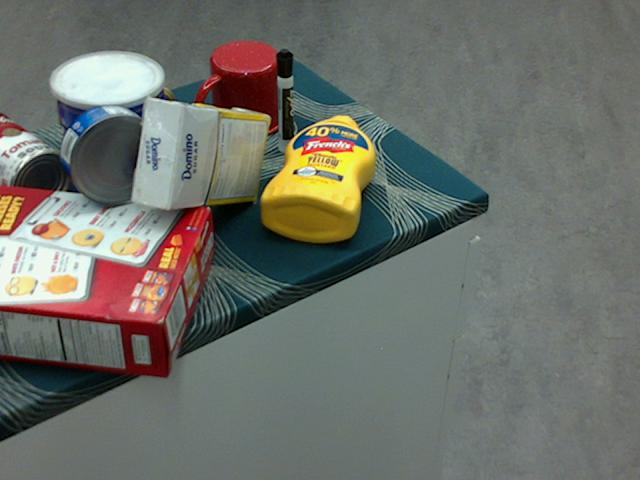cracker_box: (0, 184, 213, 375)
large_marker: (276, 48, 294, 153)
master_chef_can: (51, 52, 171, 229)
mug: (192, 41, 286, 138)
mustard_bottle: (261, 114, 376, 242)
potted_meat_can: (77, 85, 175, 167)
sugar_box: (132, 100, 268, 212)
tomato_soup_can: (0, 109, 70, 210)
tuna_fish_can: (60, 104, 163, 205)
